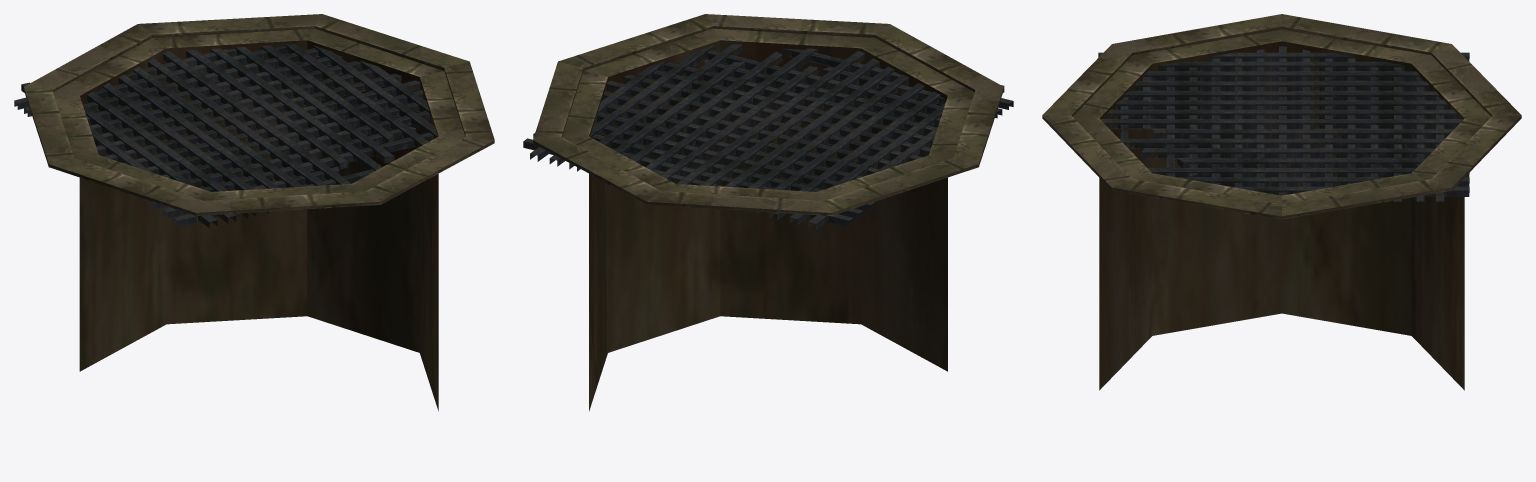
File: mlzd_qiangm_02.FBX
The picture shows the model from 3 angles, left to right: view 1: azimuth 30°, elevation 25°; view 2: azimuth 150°, elevation 25°; view 3: azimuth 270°, elevation 25°; orthographic projection.
Parts seen in each view (by area): view 1: mlzd_qiangm_02; view 2: mlzd_qiangm_02; view 3: mlzd_qiangm_02.
Part boxes in pixels (x1,y1,x2,y2): mlzd_qiangm_02: (14, 14, 494, 411); mlzd_qiangm_02: (523, 14, 1013, 411); mlzd_qiangm_02: (1042, 14, 1521, 390).
Size of the model in its own units: 2196 by 1392 by 2196.
